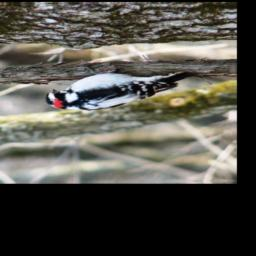Woodpecker: (45, 66, 202, 114)
